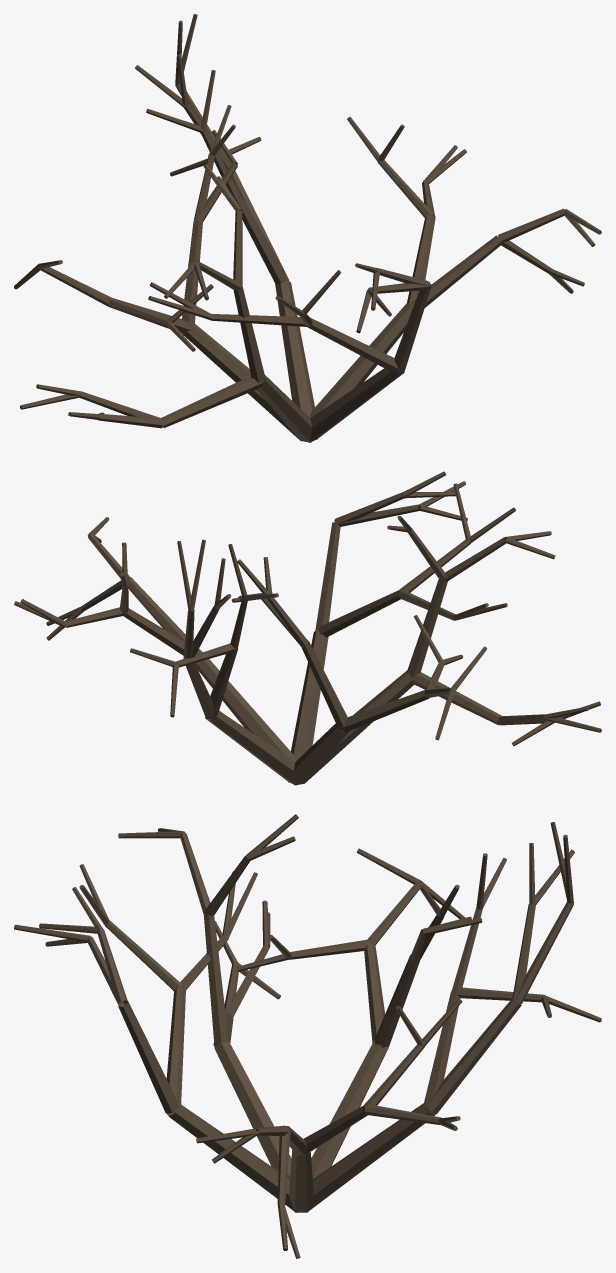
The model's file is DL_Plant_Thornbush.obj.
The picture shows the model from 3 angles, top to bottom: view 1: azimuth 30°, elevation 25°; view 2: azimuth 150°, elevation 25°; view 3: azimuth 270°, elevation 25°; orthographic projection. The views are drawn at different scales.
Visible parts, largest first — view 1: stem_4, stem_0, stem_1, stem_3, stem_2, stem_2_1, stem_1_0, stem_0_0, stem_4_0, stem_2_0, stem_1_1, stem_3_1 (+7 smaller); view 2: stem_1, stem_0, stem_4, stem_3, stem_2, stem_1_1, stem_2_0, stem_3_0, stem_3_1, stem_1_0, stem_2_1, stem_0_0 (+12 smaller); view 3: stem_4, stem_1, stem_2, stem_3, stem_4_1, stem_1_1, stem_2_0, stem_1_0, stem_4_0, stem_3_1, stem_0, stem_3_0 (+15 smaller).
Part boxes in pixels (bbox=[...]): stem_4: bbox=[275, 280, 314, 416]; stem_0: bbox=[309, 302, 412, 439]; stem_1: bbox=[308, 368, 404, 442]; stem_3: bbox=[182, 324, 301, 440]; stem_2: bbox=[256, 375, 312, 442]; stem_2_1: bbox=[161, 376, 262, 427]; stem_1_0: bbox=[307, 318, 401, 374]; stem_0_0: bbox=[410, 235, 501, 307]; stem_4_0: bbox=[235, 194, 288, 285]; stem_2_0: bbox=[233, 287, 265, 382]; stem_1_1: bbox=[394, 284, 431, 372]; stem_3_1: bbox=[182, 220, 202, 326]; stem_1: bbox=[291, 630, 328, 760]; stem_0: bbox=[195, 651, 295, 782]; stem_4: bbox=[205, 710, 296, 785]; stem_3: bbox=[293, 723, 349, 785]; stem_2: bbox=[303, 670, 413, 783]; stem_1_1: bbox=[315, 522, 340, 631]; stem_2_0: bbox=[407, 579, 447, 677]; stem_3_0: bbox=[341, 690, 429, 732]; stem_3_1: bbox=[301, 641, 347, 729]; stem_1_0: bbox=[318, 590, 400, 637]; stem_2_1: bbox=[411, 672, 501, 725]; stem_0_0: bbox=[128, 577, 201, 652]; stem_4: bbox=[305, 1103, 435, 1212]; stem_1: bbox=[166, 1104, 297, 1212]; stem_2: bbox=[214, 1041, 291, 1178]; stem_3: bbox=[311, 1040, 388, 1178]; stem_4_1: bbox=[425, 998, 521, 1114]; stem_1_1: bbox=[118, 1000, 179, 1113]; stem_2_0: bbox=[203, 914, 228, 1046]; stem_1_0: bbox=[166, 987, 185, 1112]; stem_4_0: bbox=[424, 991, 460, 1109]; stem_3_1: bbox=[375, 955, 419, 1048]; stem_0: bbox=[289, 1150, 313, 1212]; stem_3_0: bbox=[364, 941, 384, 1043].
Bounding box in the file's own units: 5.66 × 3.21 × 4.51.
